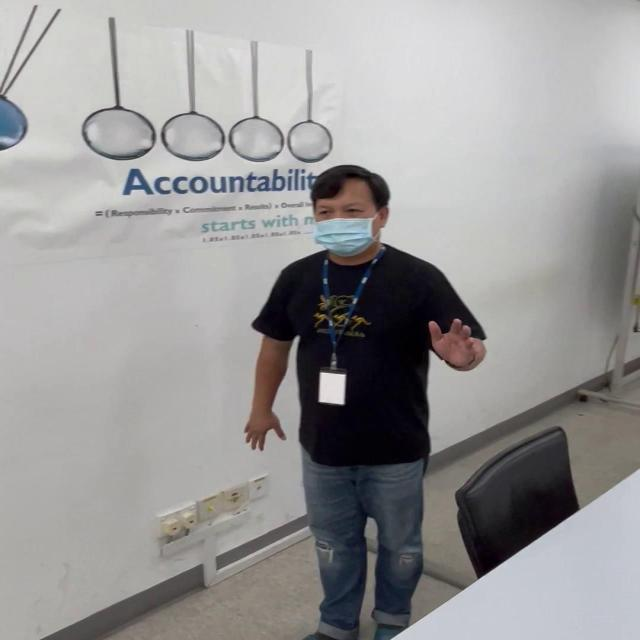bare_hand: (426, 312, 486, 375), (242, 402, 284, 453)
